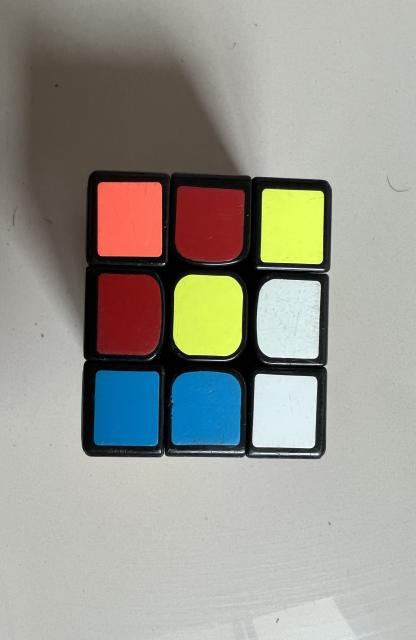Blue: (171, 371, 242, 445), (94, 370, 159, 446)
Orange: (98, 181, 162, 258)
Red: (174, 186, 245, 261), (96, 274, 161, 355)
White: (257, 279, 321, 359), (252, 374, 317, 449)
Yellow: (173, 274, 244, 356), (260, 189, 324, 264)
